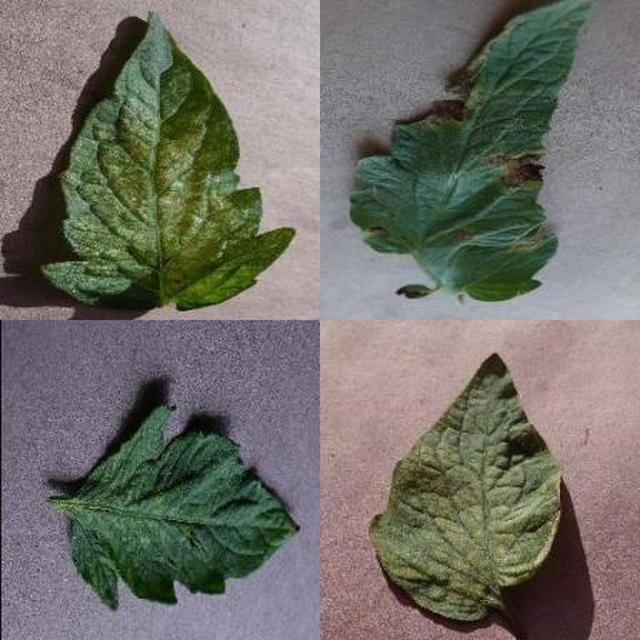Spider Mites Leaf: (242, 216, 640, 640)
